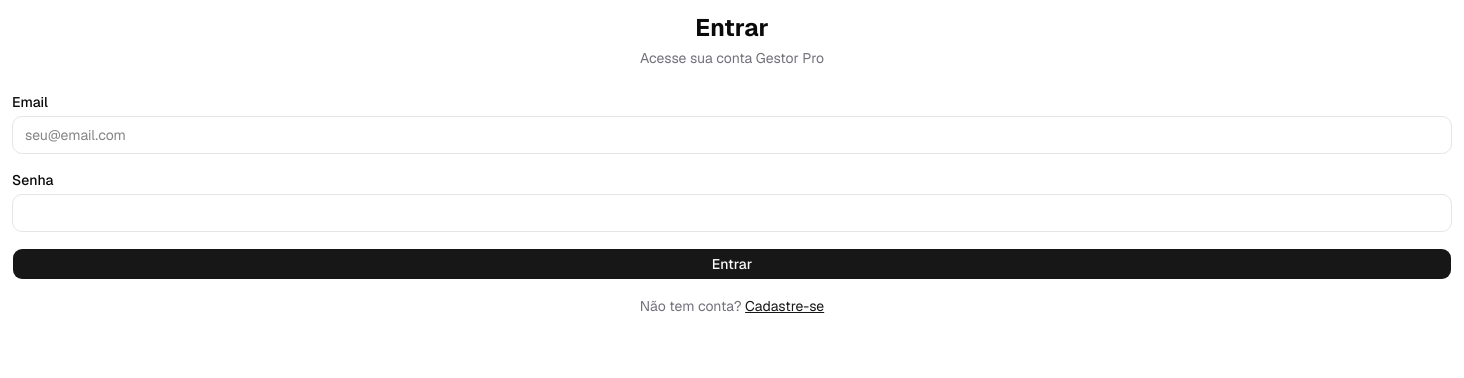
Test: LoginForm › shows validation errors on empty submit
This screenshot has width=1464, height=378.
Click the button "Entrar". click: (732, 264)
box: [12, 248, 1452, 280]
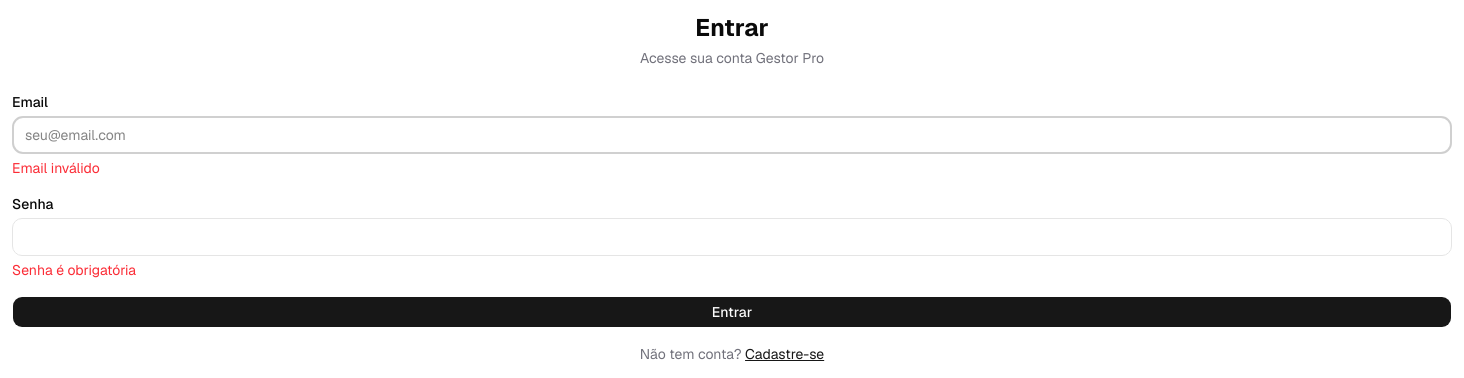
Check: the text "Email inválido" is shown, box [12, 159, 100, 177]
Check: the text "Senha é obrigatória" is shown, box [12, 261, 136, 279]
